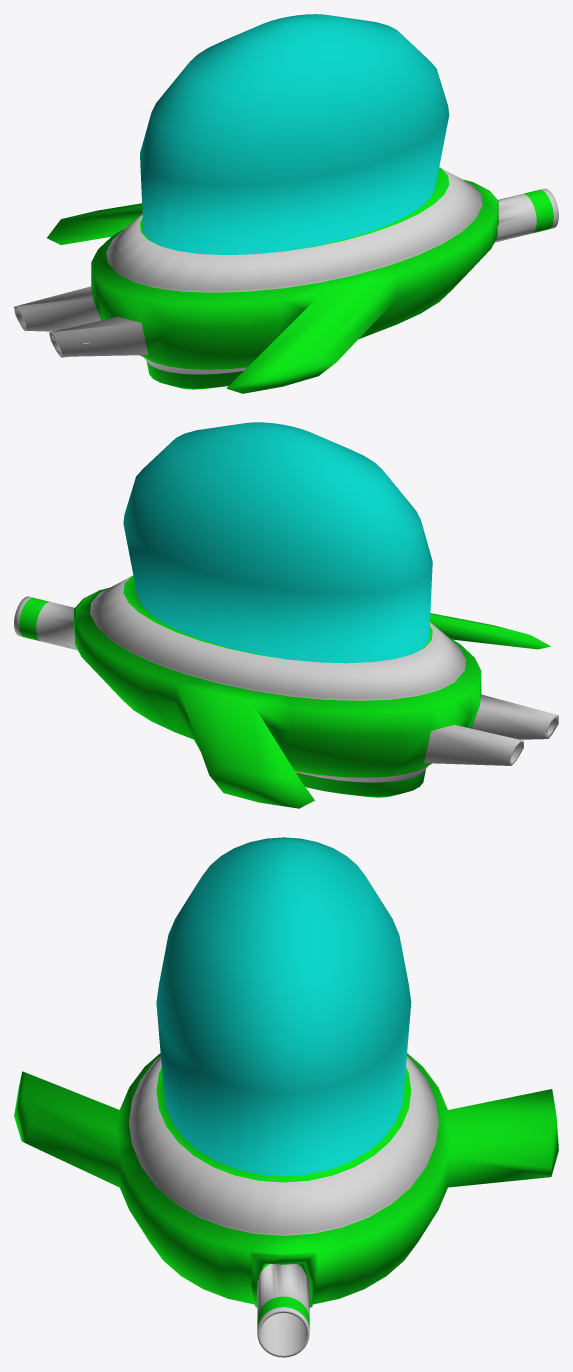
File: Player1.fbx
The picture shows the model from 3 angles, top to bottom: view 1: azimuth 30°, elevation 25°; view 2: azimuth 150°, elevation 25°; view 3: azimuth 270°, elevation 25°; orthographic projection. The views are drawn at different scales.
Visible parts, largest first — view 1: Cylinder; view 2: Cylinder; view 3: Cylinder.
Part boxes in pixels (x1,y1,x2,y2): Cylinder: (14,14,558,393); Cylinder: (14,422,558,808); Cylinder: (14,837,558,1357).
Size of the model in its own units: 1279 by 794 by 920.
